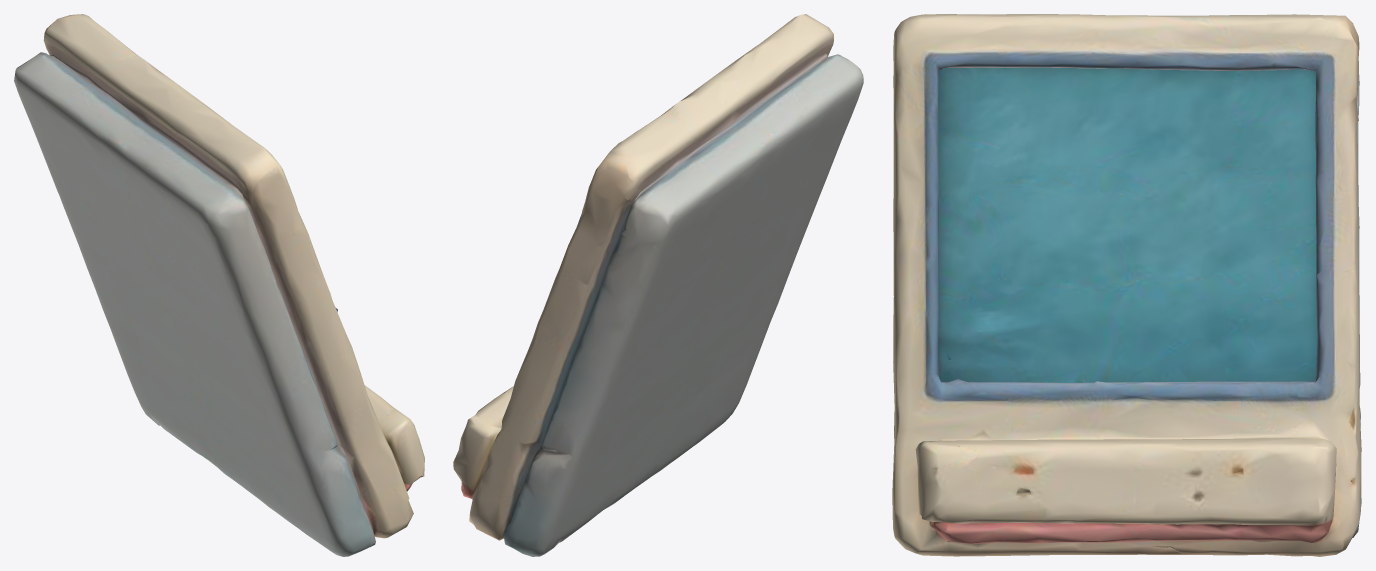
Rendered from photo.glb.
The picture shows the model from 3 angles, left to right: view 1: azimuth 30°, elevation 25°; view 2: azimuth 150°, elevation 25°; view 3: azimuth 270°, elevation 25°; orthographic projection. The views are drawn at different scales.
Visible parts, largest first — view 1: tripo_node_a80e707e-e376-4f29-8aa9-4d63e67b3a85; view 2: tripo_node_a80e707e-e376-4f29-8aa9-4d63e67b3a85; view 3: tripo_node_a80e707e-e376-4f29-8aa9-4d63e67b3a85.
Boxes of the visible parts, box(x1,y1,x2,y2) form: tripo_node_a80e707e-e376-4f29-8aa9-4d63e67b3a85: box(14, 14, 424, 556); tripo_node_a80e707e-e376-4f29-8aa9-4d63e67b3a85: box(453, 14, 863, 556); tripo_node_a80e707e-e376-4f29-8aa9-4d63e67b3a85: box(892, 14, 1361, 556).
Size of the model in its own units: 0.5646 by 1 by 0.8837.
1 material, 1 textured.
